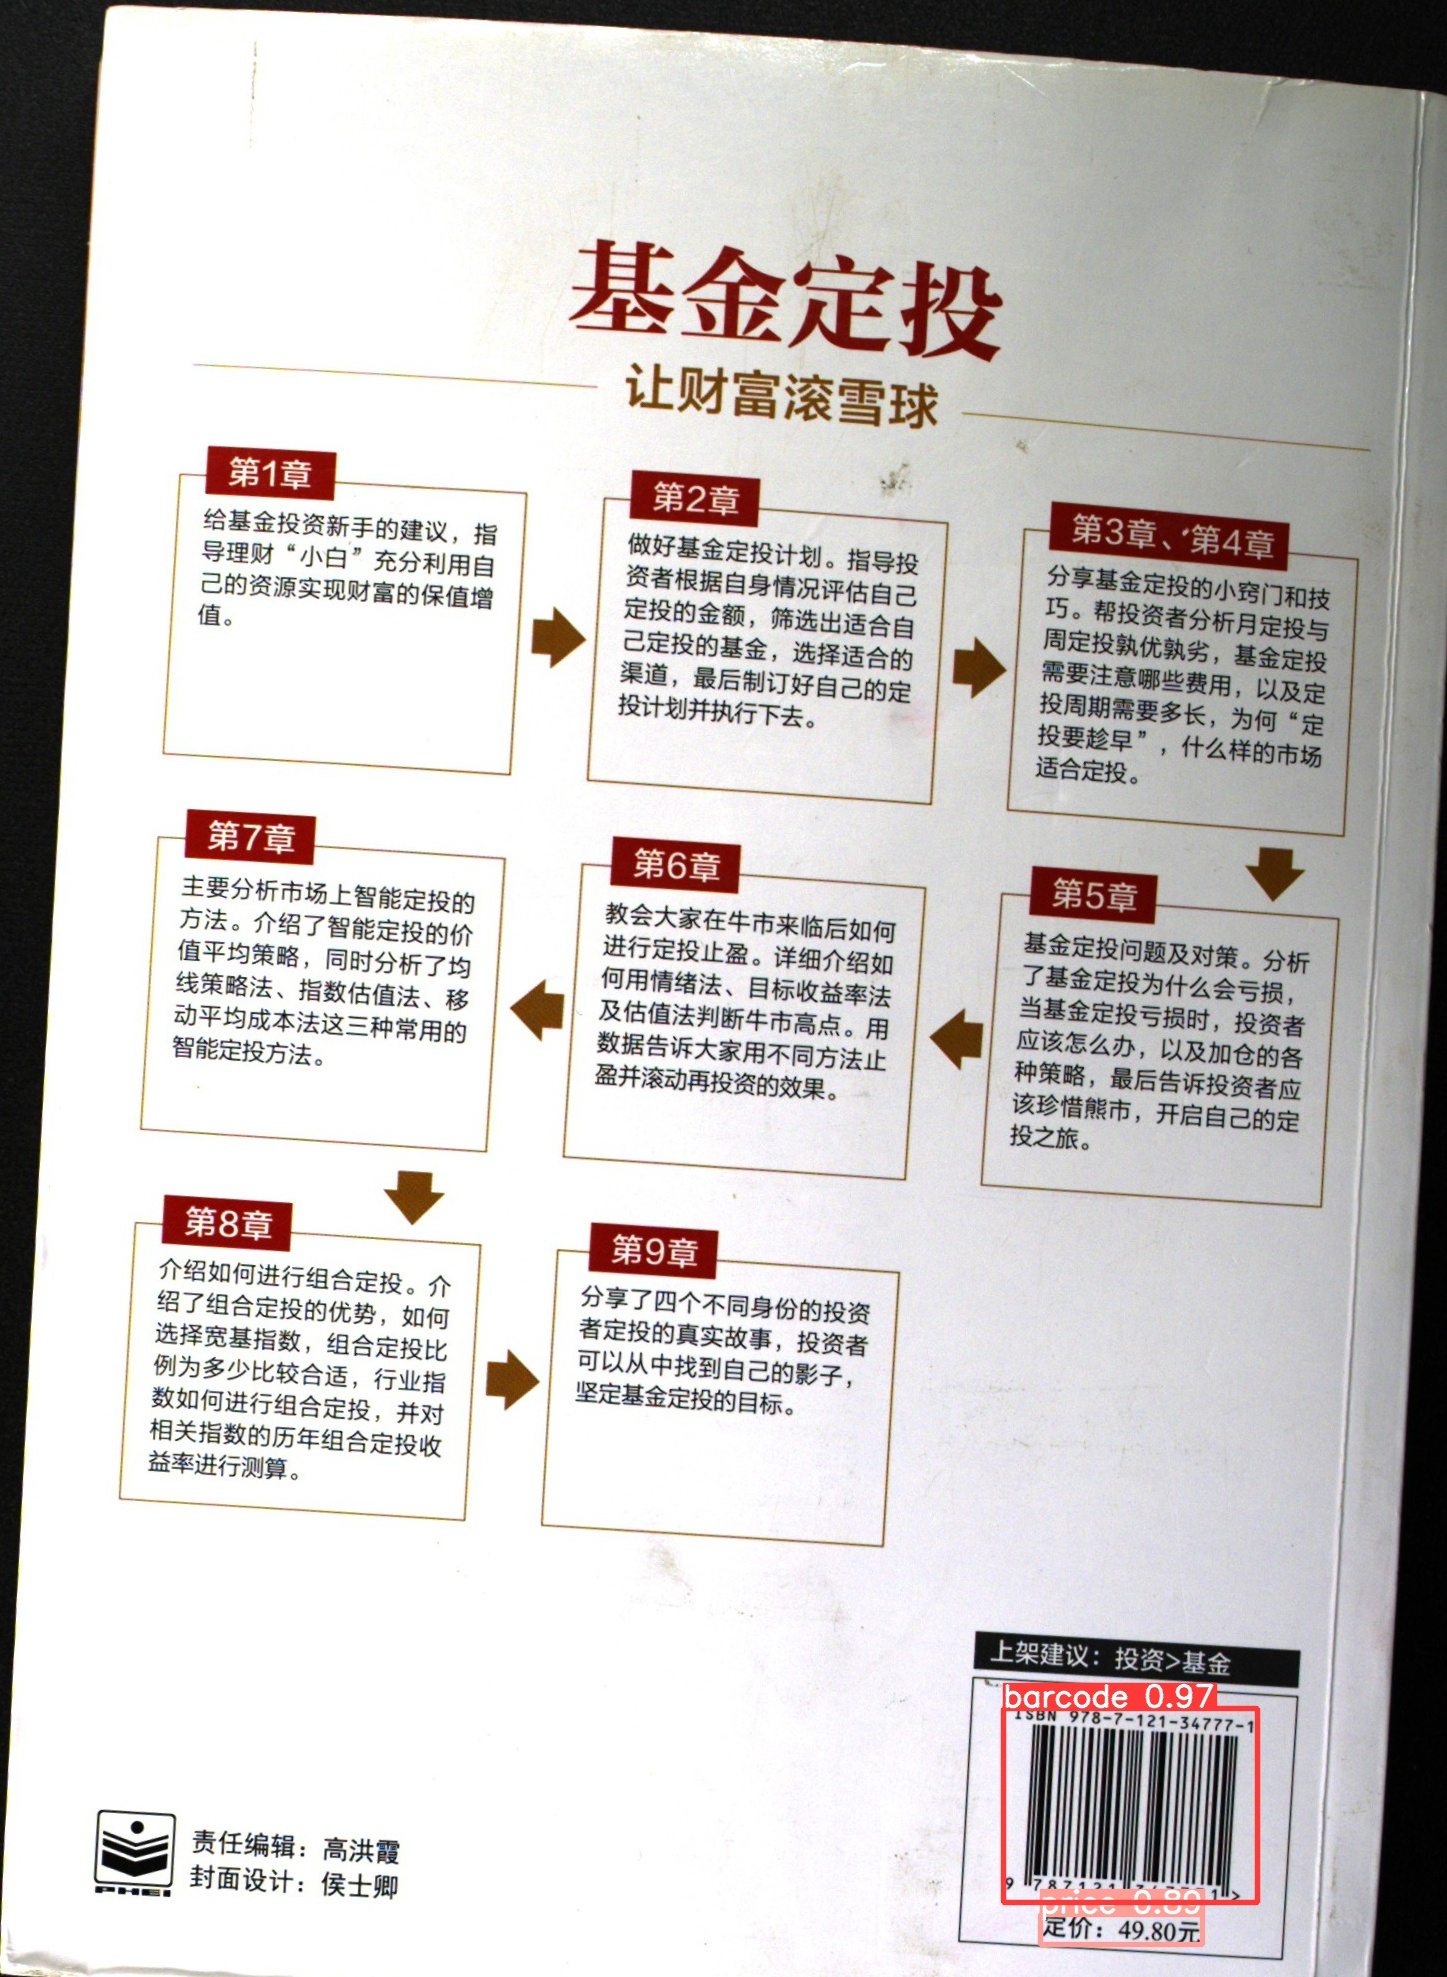barcode: (981, 1629, 1292, 1962)
